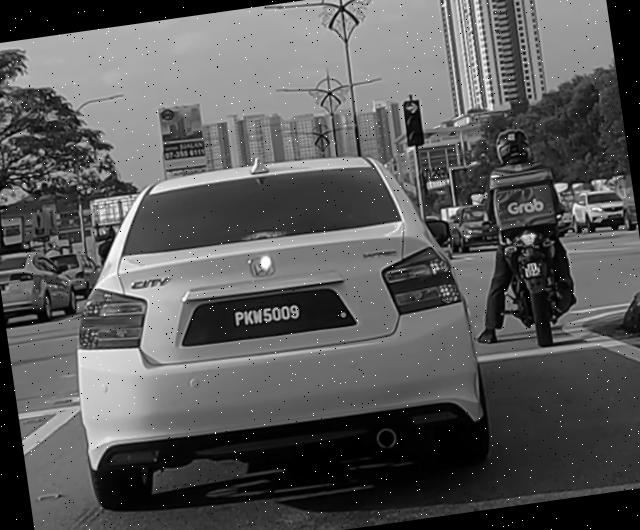License_Plate: (200, 285, 341, 345)
car: (49, 132, 495, 517)
